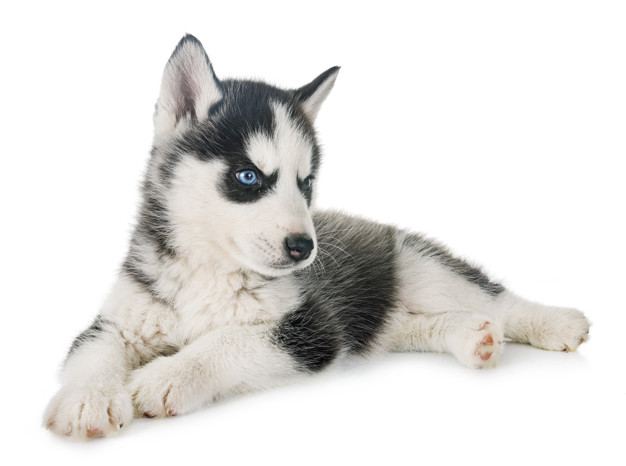husky: (37, 23, 600, 449)
